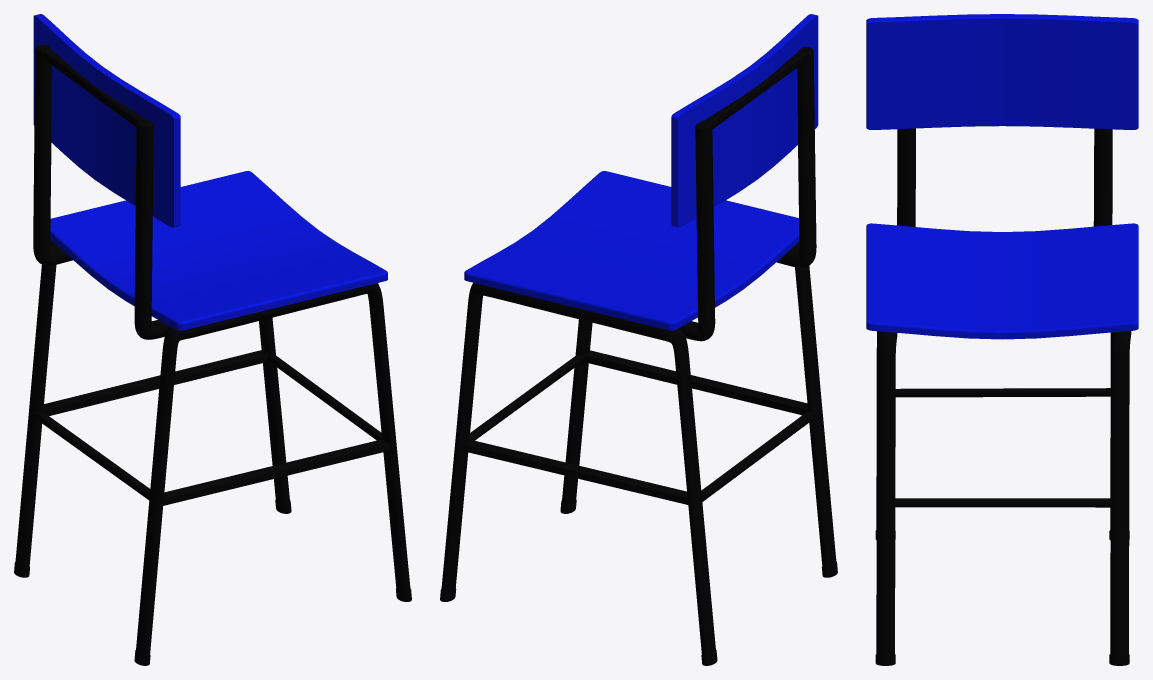
The model's file is Silla.fbx.
3 renders of one model, left to right at view 1: azimuth 30°, elevation 25°; view 2: azimuth 150°, elevation 25°; view 3: azimuth 270°, elevation 25°, orthographic. The views are drawn at different scales.
Visible parts, largest first — view 1: Silla; view 2: Silla; view 3: Silla.
Part boxes in pixels (<box>): Silla: <box>14,14,411,665</box>; Silla: <box>440,14,837,665</box>; Silla: <box>866,14,1138,665</box>.
Size of the model in its own units: 74.03 by 142 by 65.78.
